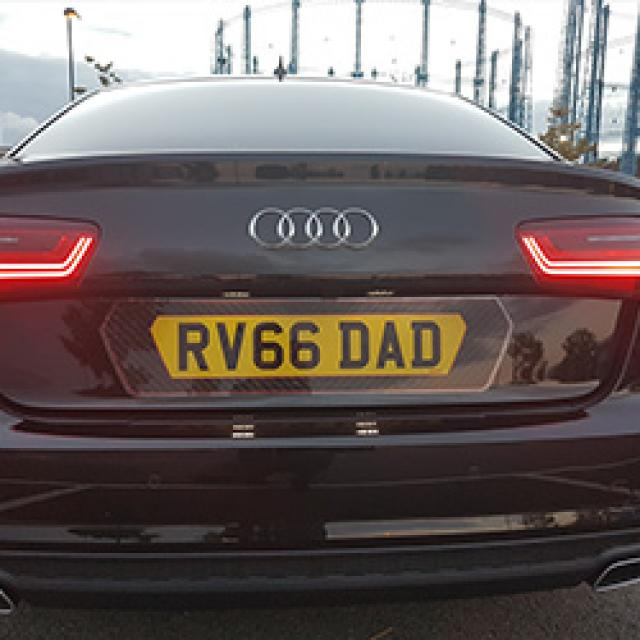Number-Plate: (175, 314, 455, 377)
